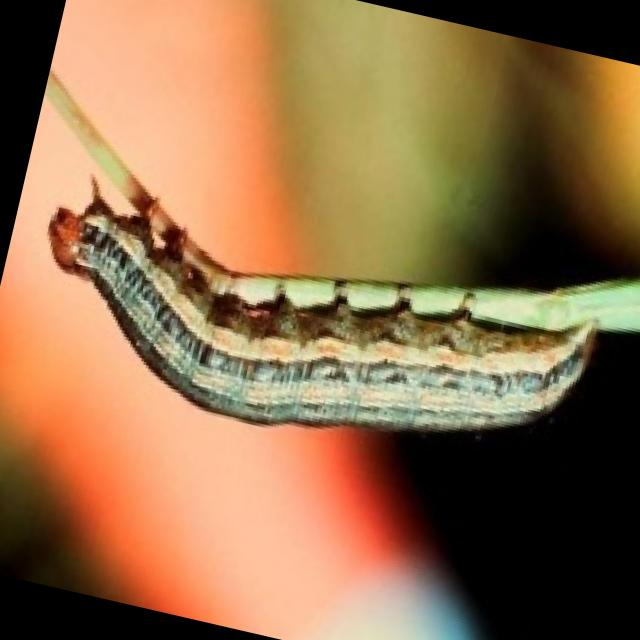armyworm: (1, 139, 623, 529)
